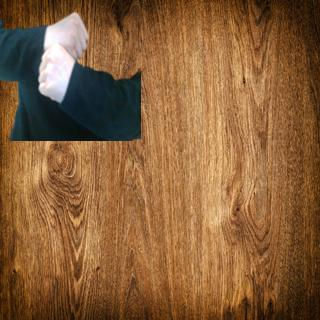CAREFUL: (36, 10, 89, 106)
